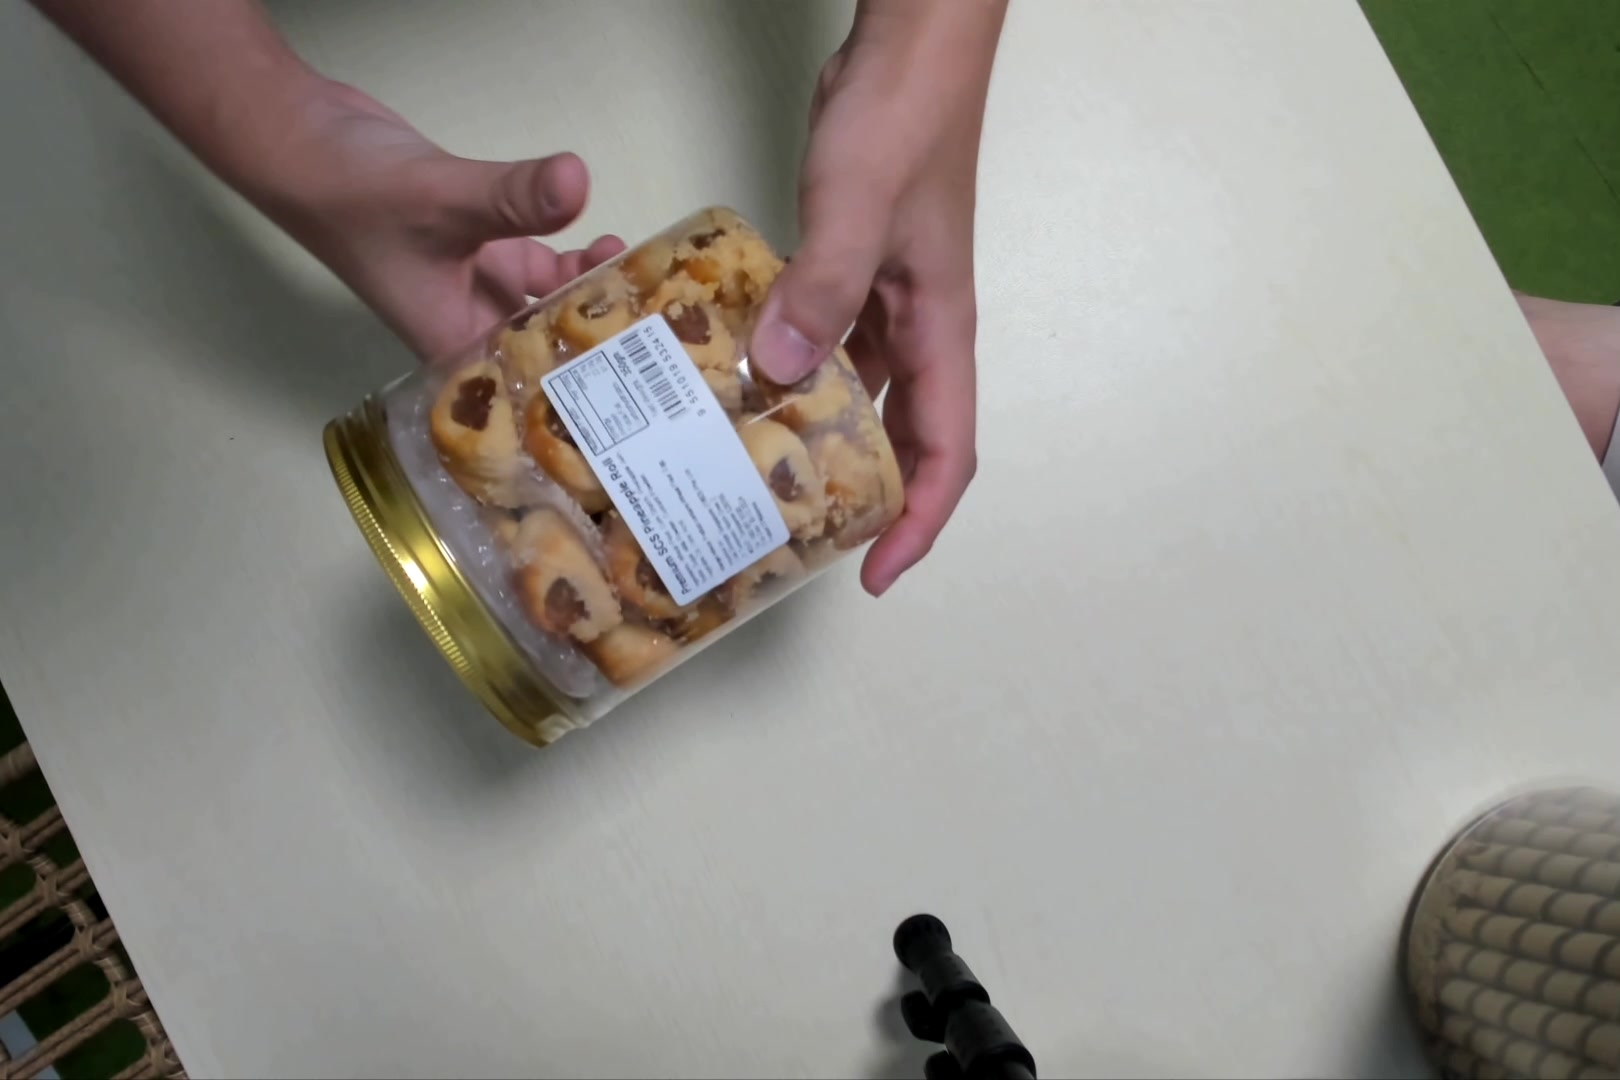BiscuitsCrackersCookies_300-399g_NonHalal_NonHealthy: (322, 202, 911, 755)
